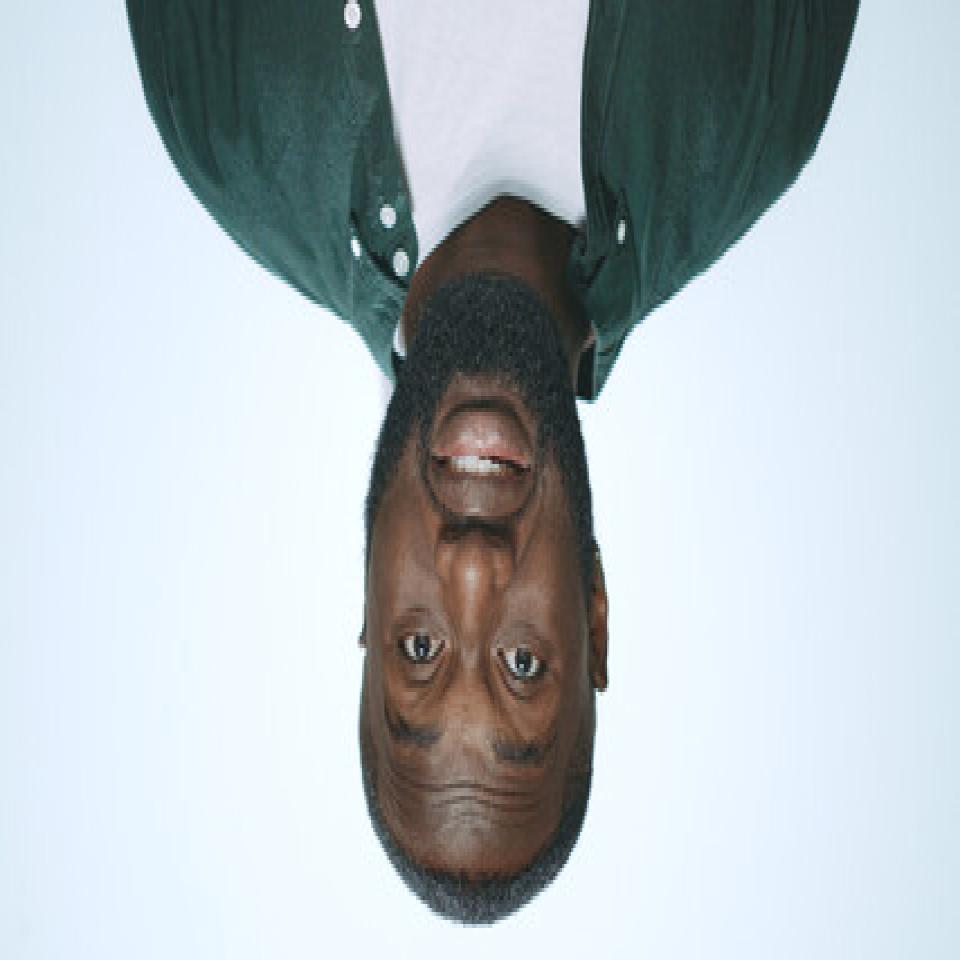Disgust: (365, 354, 594, 806)
